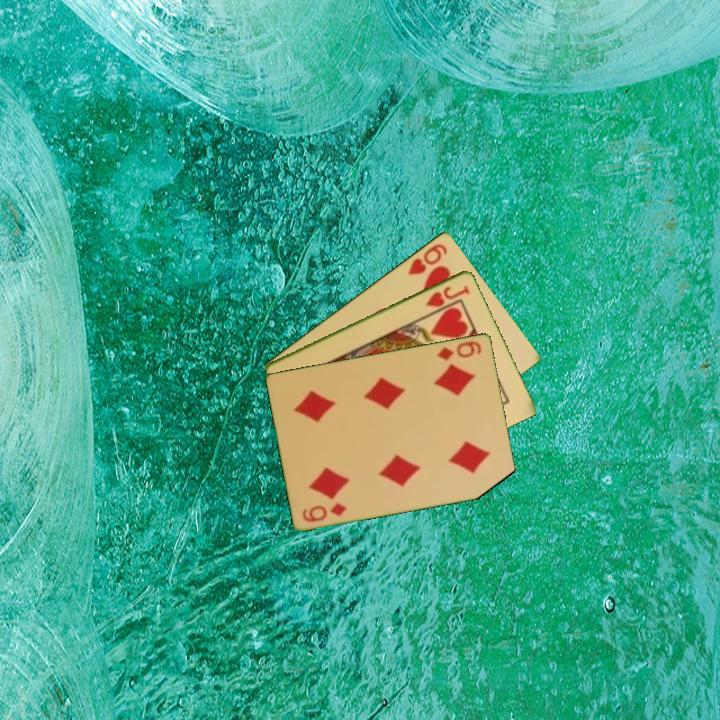6d: (434, 337, 485, 363), (299, 499, 350, 525)
6h: (404, 239, 450, 278)
Jh: (422, 282, 473, 310)
